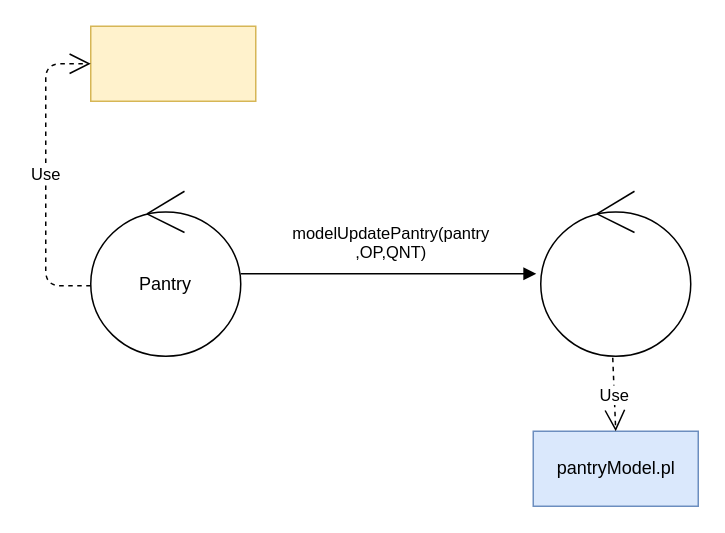
Some shapes in this 725 by 533 pixel diagram are drawn without their labels. The shapes that lost their labels are listed below. From the top down, each one's box as (x1, y1, x2, y2) in pixels, then its label:
(89, 25, 256, 101): pantry.java
(539, 190, 691, 356): ResourceModel Pantry
